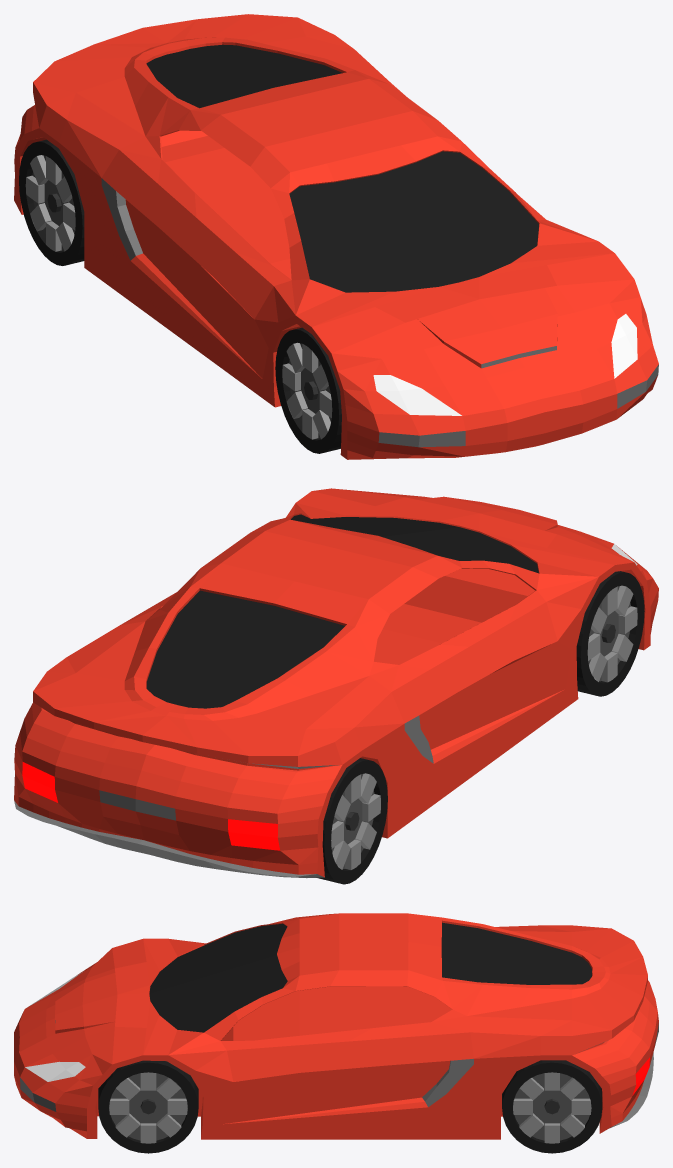
The model's file is car2.fbx.
The picture shows the model from 3 angles, top to bottom: view 1: azimuth 30°, elevation 25°; view 2: azimuth 150°, elevation 25°; view 3: azimuth 270°, elevation 25°; orthographic projection. The views are drawn at different scales.
Visible parts, largest first — view 1: Cube, Wheel1.001, Wheel1.002; view 2: Cube, Wheel1.001, Wheel1.002; view 3: Cube, Wheel1, Wheel1.003.
Boxes of the visible parts, x1=… form: Cube: x1=14, y1=14, x2=658, y2=459; Wheel1.001: x1=275, y1=327, x2=341, y2=453; Wheel1.002: x1=19, y1=139, x2=84, y2=265; Cube: x1=14, y1=488, x2=658, y2=878; Wheel1.001: x1=576, y1=571, x2=644, y2=696; Wheel1.002: x1=316, y1=758, x2=387, y2=884; Cube: x1=14, y1=913, x2=658, y2=1139; Wheel1: x1=98, y1=1060, x2=198, y2=1153; Wheel1.003: x1=502, y1=1060, x2=602, y2=1153.
Size of the model in its own units: 166 by 101 by 386.
